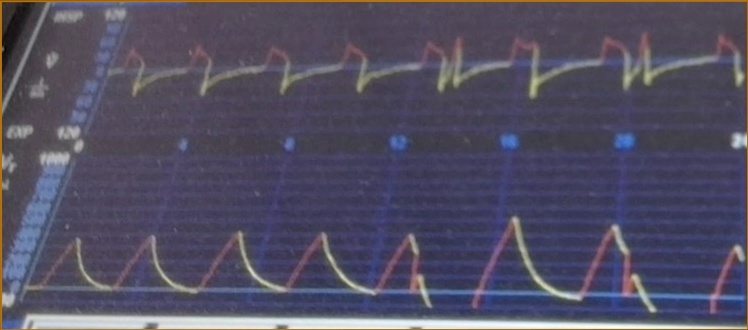Double_Triggering Flow: (113, 30, 745, 109)
Double_Triggering Volume: (45, 208, 742, 312)
